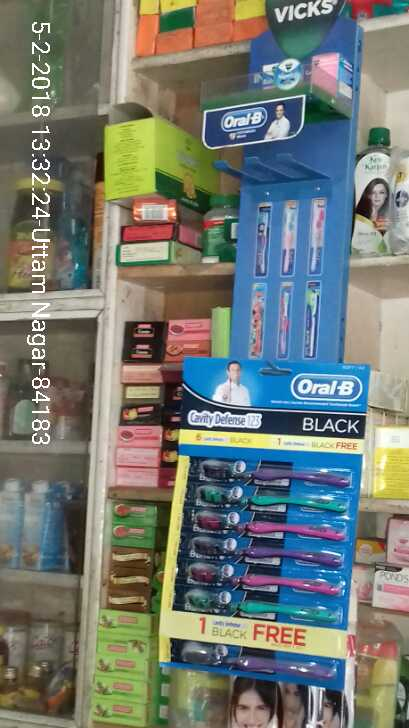oralb: (190, 447, 353, 626)
